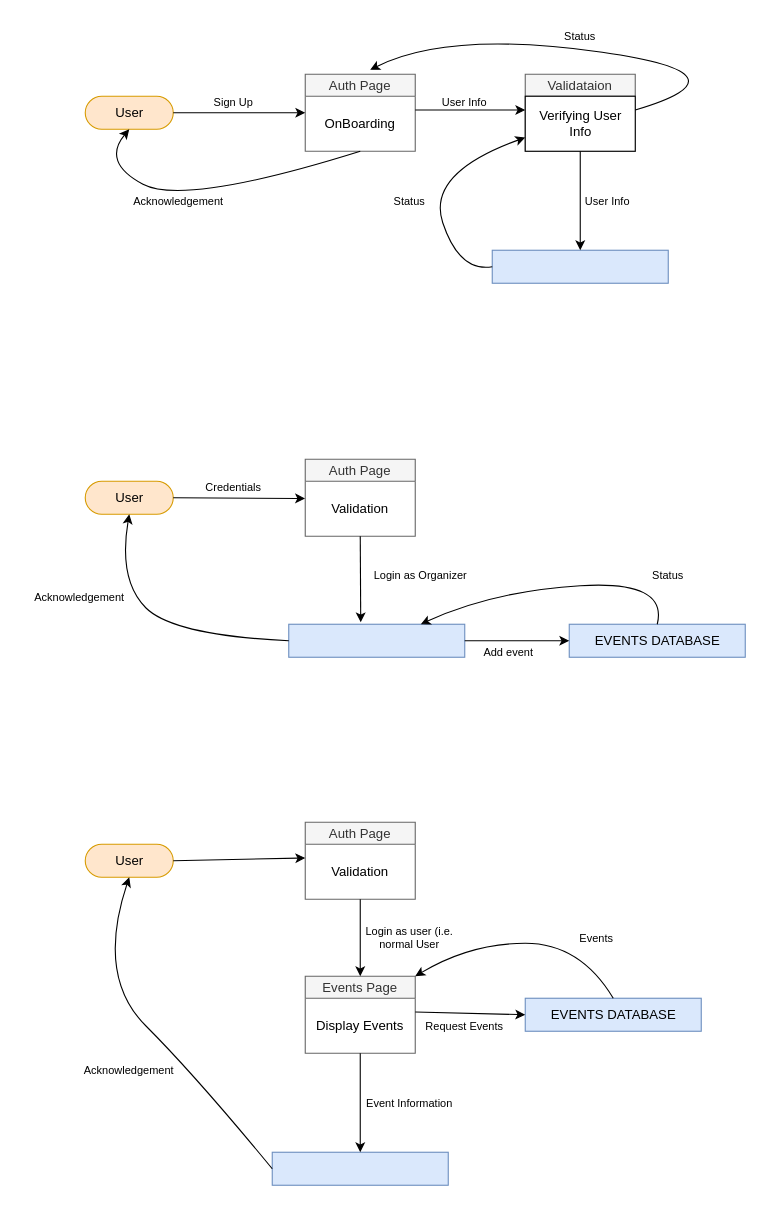
Some shapes in this 765 by 1205 pixel diagram are drawn without their labels. Here are the shapes that lost their labels. From the top down, the centre of each, then its label:
(579,266): USER DATABASE
(376,640): CREATE AN EVENT
(359,1168): REGISTER FOR AN EVENT
